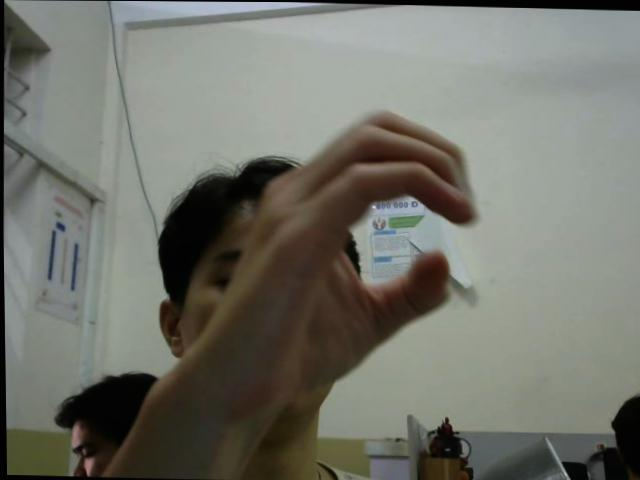C: (226, 102, 487, 399)
